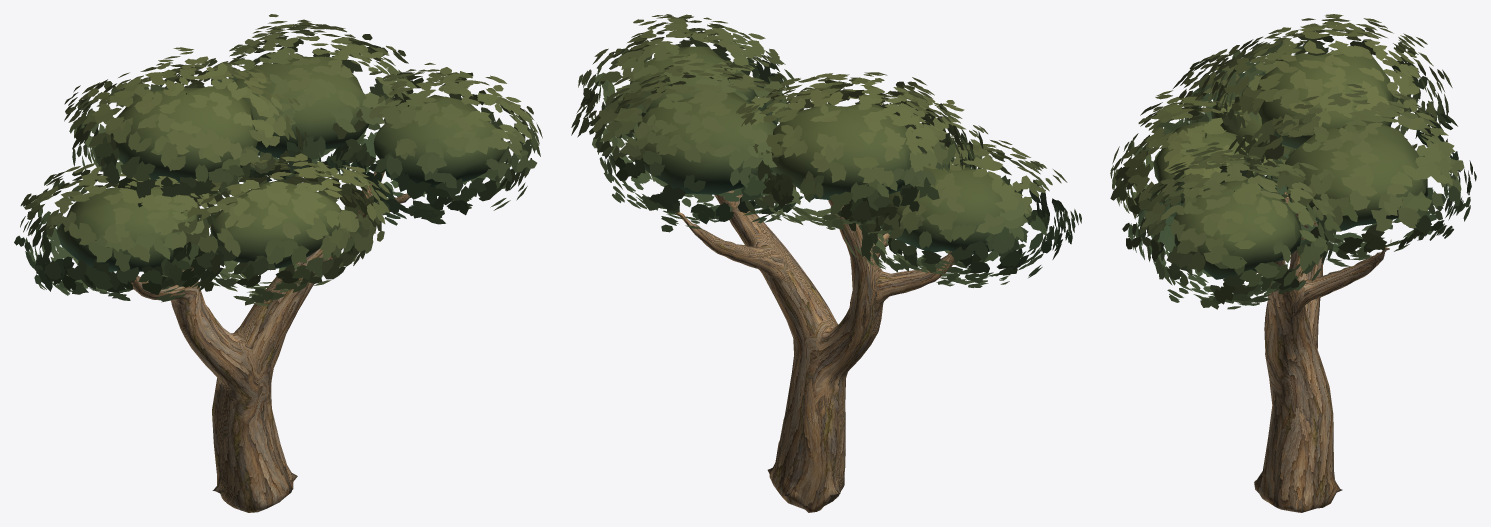
The model's file is valley-grove-spread.glb.
3 views of the same model, side by side, from view 1: azimuth 30°, elevation 25°; view 2: azimuth 150°, elevation 25°; view 3: azimuth 270°, elevation 25° (orthographic). The views are drawn at different scales.
Visible parts, largest first — view 1: grove-crown-foliage, grove-living-wood; view 2: grove-crown-foliage, grove-living-wood; view 3: grove-crown-foliage, grove-living-wood.
Boxes of the visible parts, x1,y1,x2,y2 form: grove-crown-foliage: (14,14,542,305); grove-living-wood: (131,171,410,512); grove-crown-foliage: (571,14,1081,287); grove-living-wood: (675,190,954,512); grove-crown-foliage: (1110,14,1476,309); grove-living-wood: (1254,192,1391,512).
Bounding box in the file's own units: 8.1 × 6.89 × 5.11.
2 materials, 1 textured.
